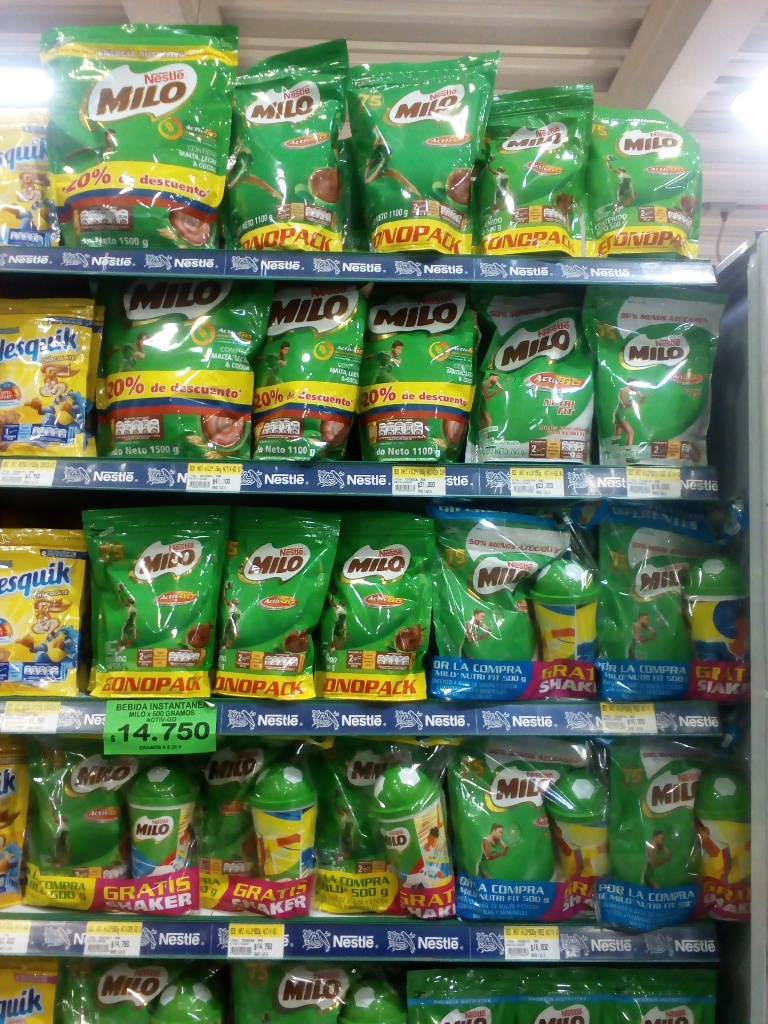COL0170203DYP50000: (493, 83, 592, 257)
COL0170205DYP50000: (611, 742, 697, 921)
